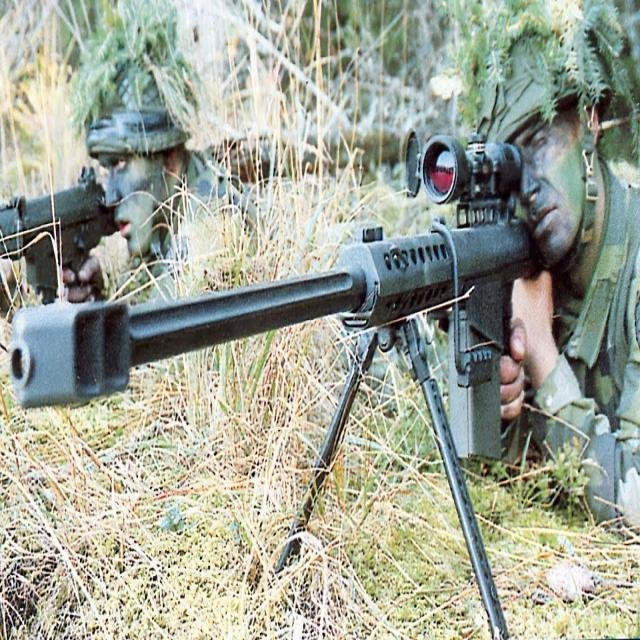rifle: (0, 128, 545, 468), (0, 135, 112, 306)
